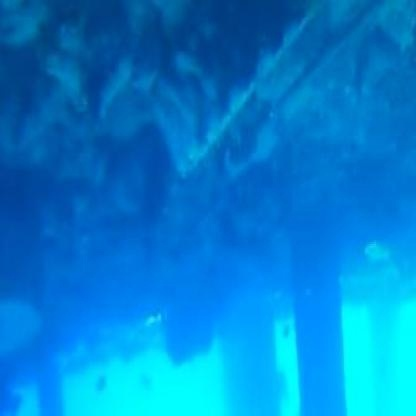tire: (141, 2, 332, 164)
